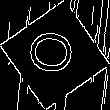O_E: (27, 29, 83, 81)
